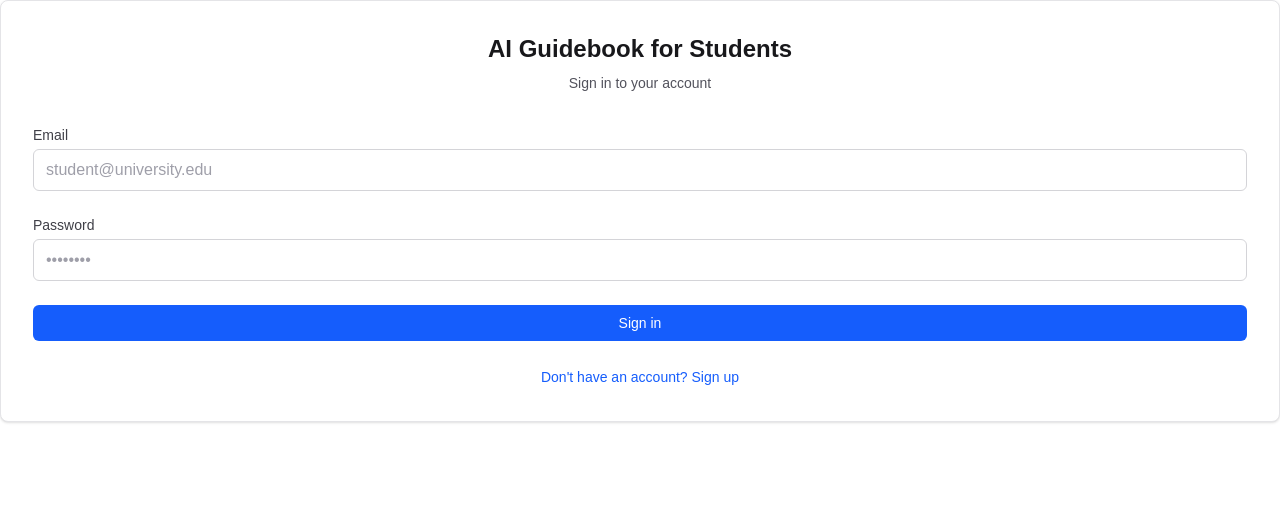
Scenario: Login page › shows auth error when sign-in fails
Type "student@test.edu" into the field labelled "Email" at x=640, y=170, box [33, 149, 1247, 191]
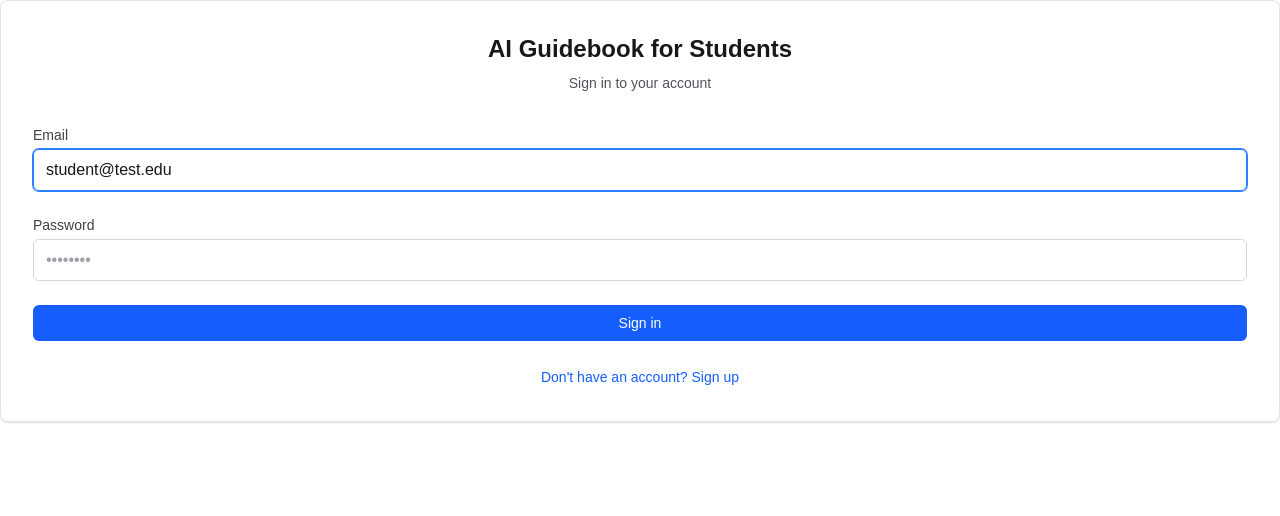
Type "password123" into the password field labelled "Password" at x=640, y=260, box [33, 239, 1247, 281]
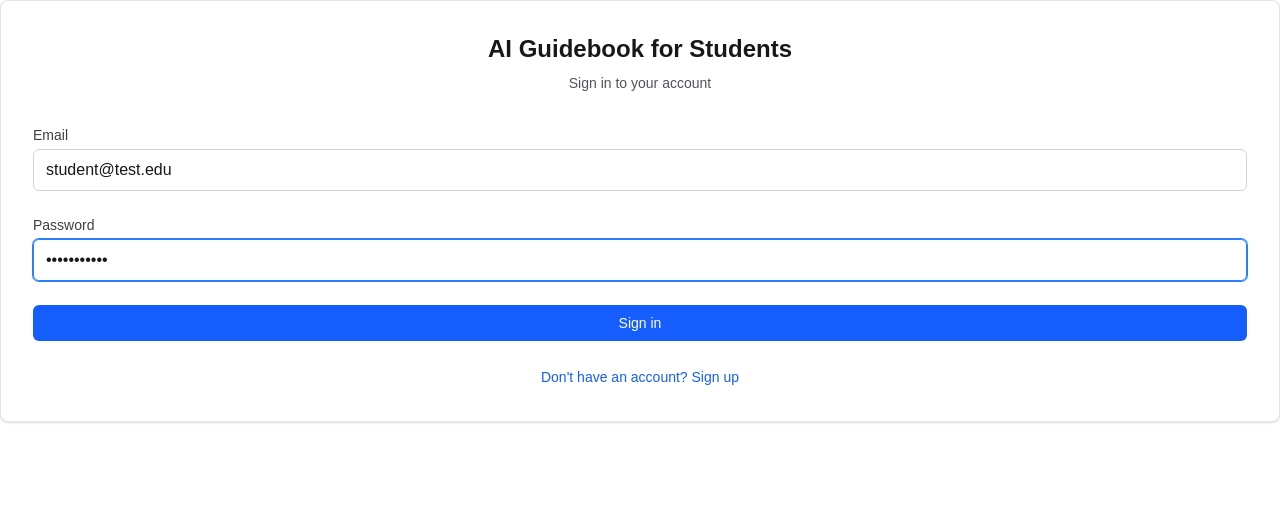
Click the button "Sign in" at x=640, y=323, box [33, 305, 1247, 341]
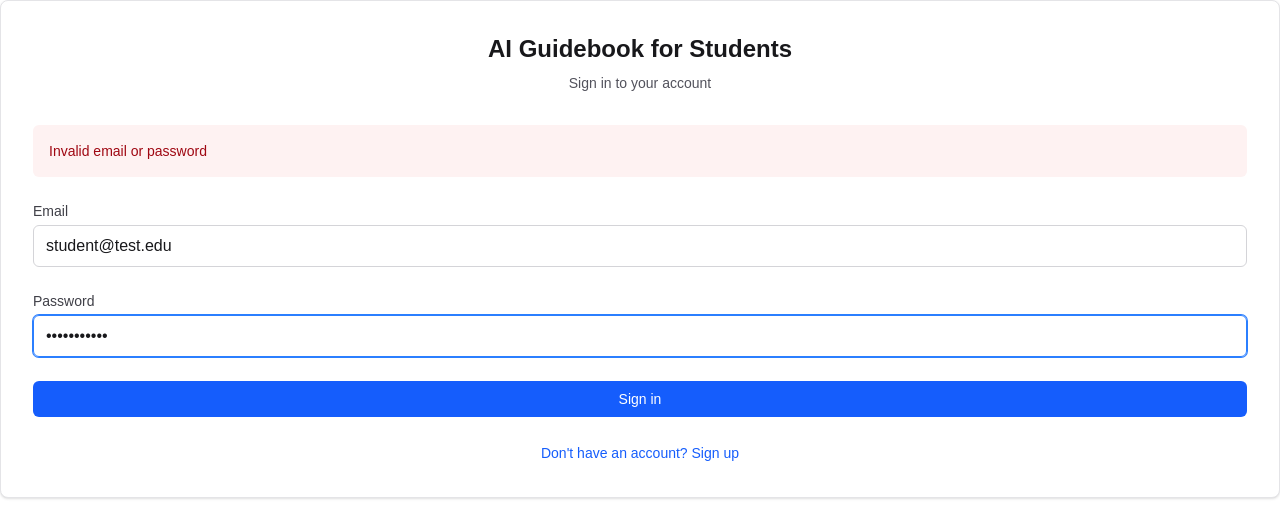
Expected: the text "Invalid email or password" is shown, [33, 125, 1247, 177]
